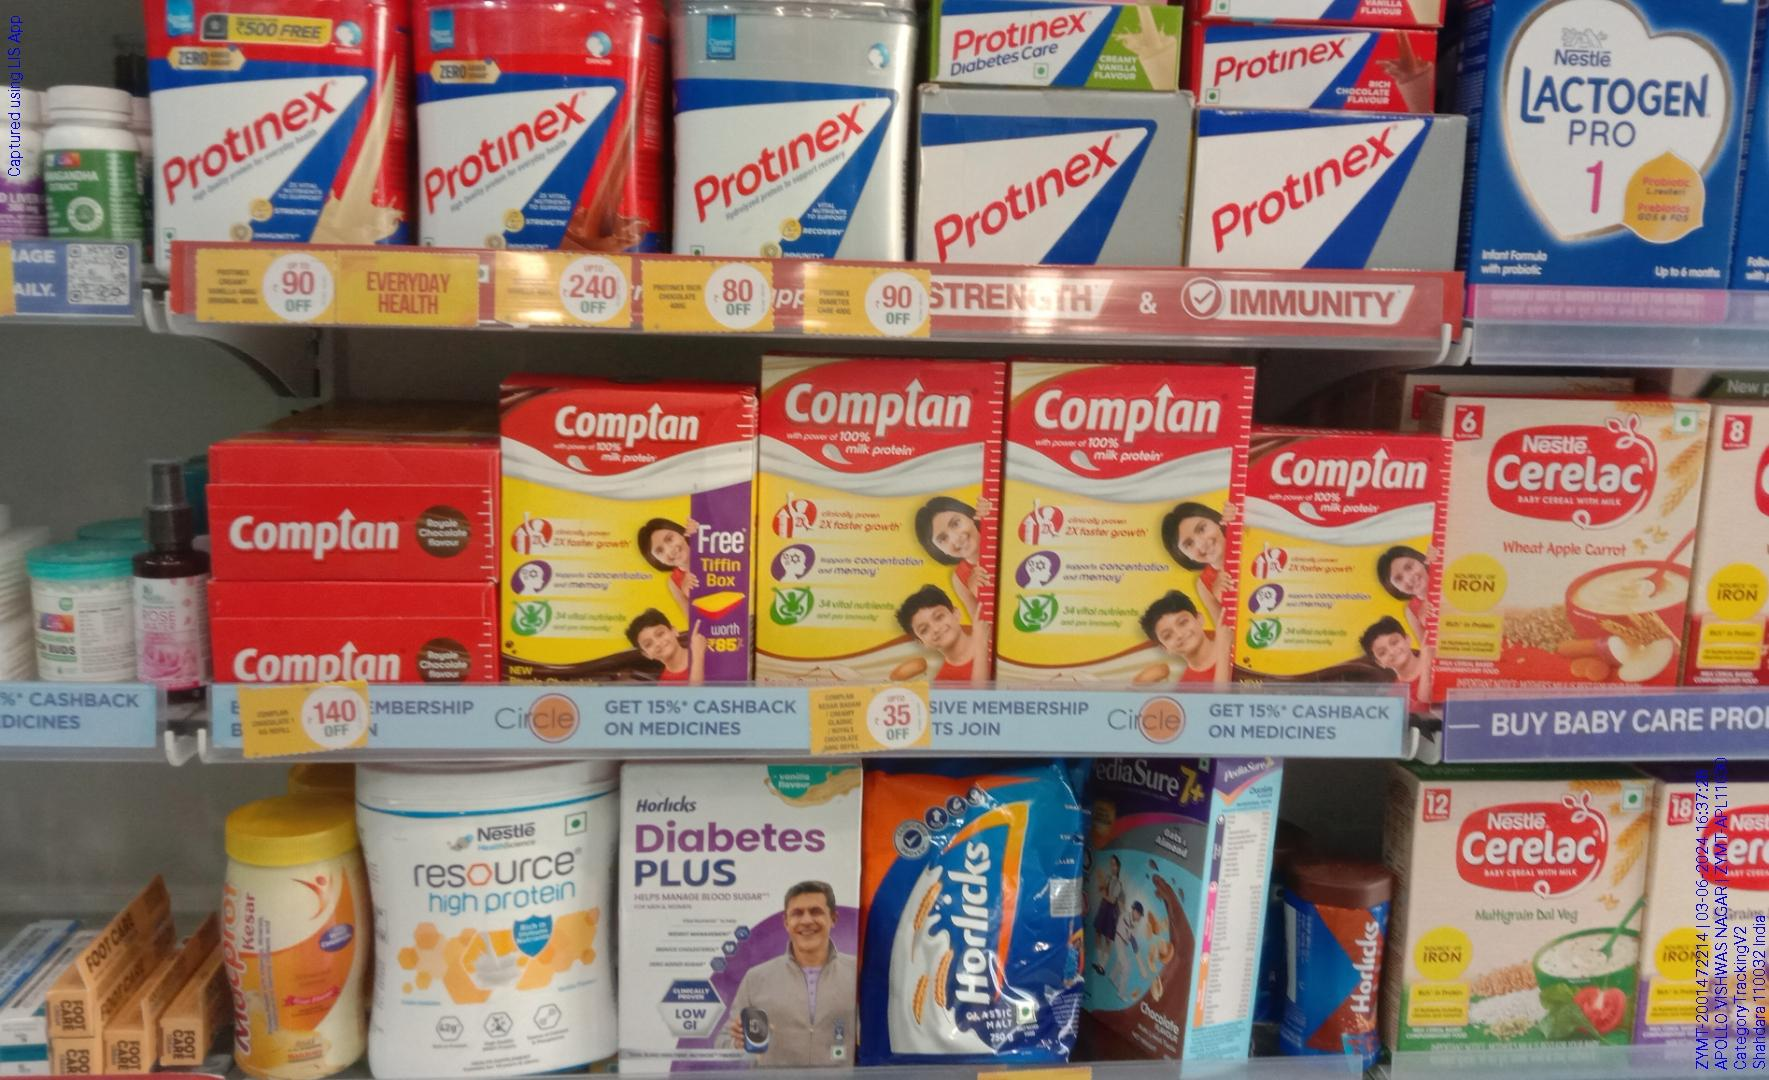COMPLAN_CHOCOLATE_200_GMS_PACK: (507, 389, 749, 688), (1243, 428, 1433, 688)
COMPLAN_KESAR_BADAM_500_GMS_PACK: (761, 351, 994, 683), (1010, 361, 1235, 692)
HORLICK_CHOCOLATE_200_G_JAR: (1301, 877, 1382, 1061)
HORLICK_CLASSIC_MALT_750_G_POUCH: (868, 772, 1077, 1074)
PROTINEX_CHOCOLATE_400_G_JAR: (414, 0, 653, 249)
PROTINEX_ORIGINAL_400_G_JAR: (675, 0, 906, 263)
PROTINEX_VANILLA_400_G_JAR: (150, 0, 408, 246)
